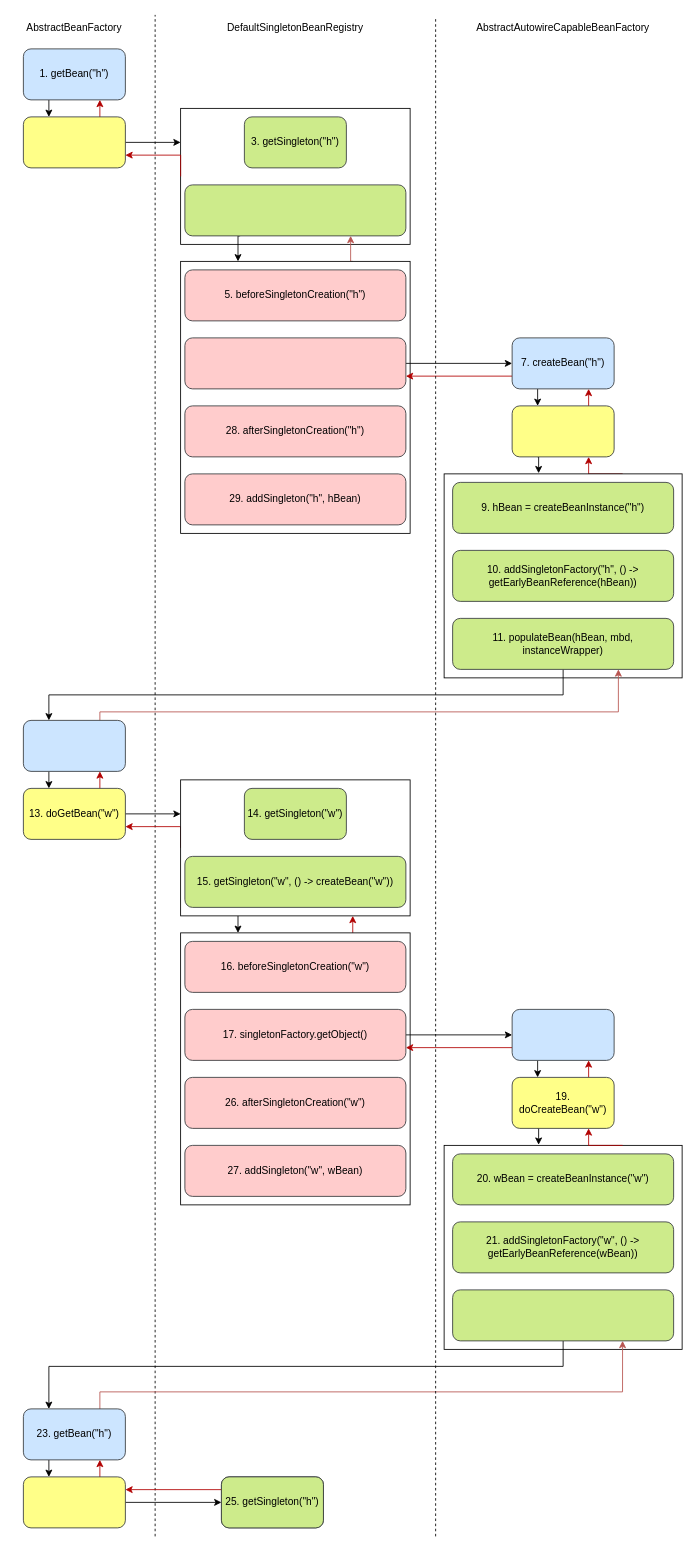
Some shapes in this 697 by 1552 pixel diagram are drawn without their labels. The box of each missing label's shape, as (x1, y1, x2, y2) in pixels:
12. getBean("w"): (23, 720, 125, 771)
18. createBean("w"): (511, 1009, 614, 1060)
2. doGetBean("h"): (23, 116, 125, 168)
22. populateBean(wBean, mbd, instanceWrapper): (452, 1289, 674, 1341)
24. doGetBean("h"): (23, 1476, 125, 1528)
4. getSingleton("h", () -> createBean("h")): (184, 184, 406, 236)
6. singletonFactory.getObject(): (184, 337, 406, 389)
8. doCreateBean("h"): (511, 405, 614, 457)
